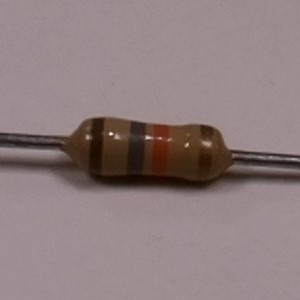brown_band: (86, 114, 107, 179)
gold_band: (195, 122, 216, 184)
grey_band: (126, 118, 149, 183)
orange_band: (150, 122, 171, 181)
